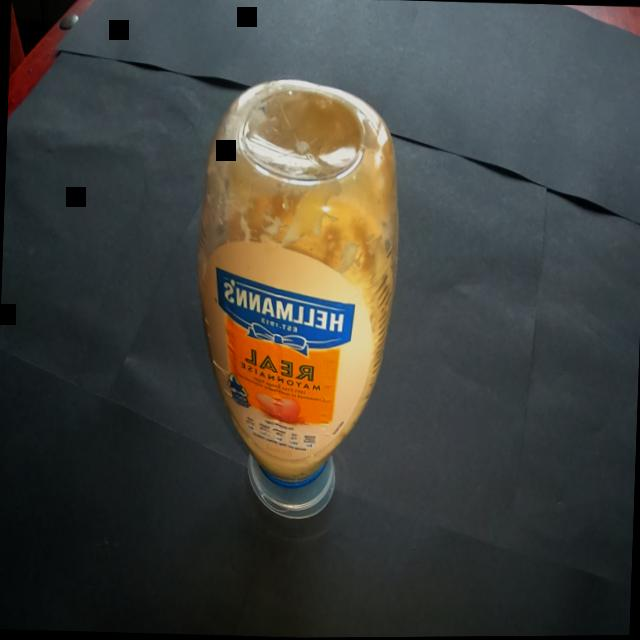Mayonnaise: (180, 63, 415, 552)
